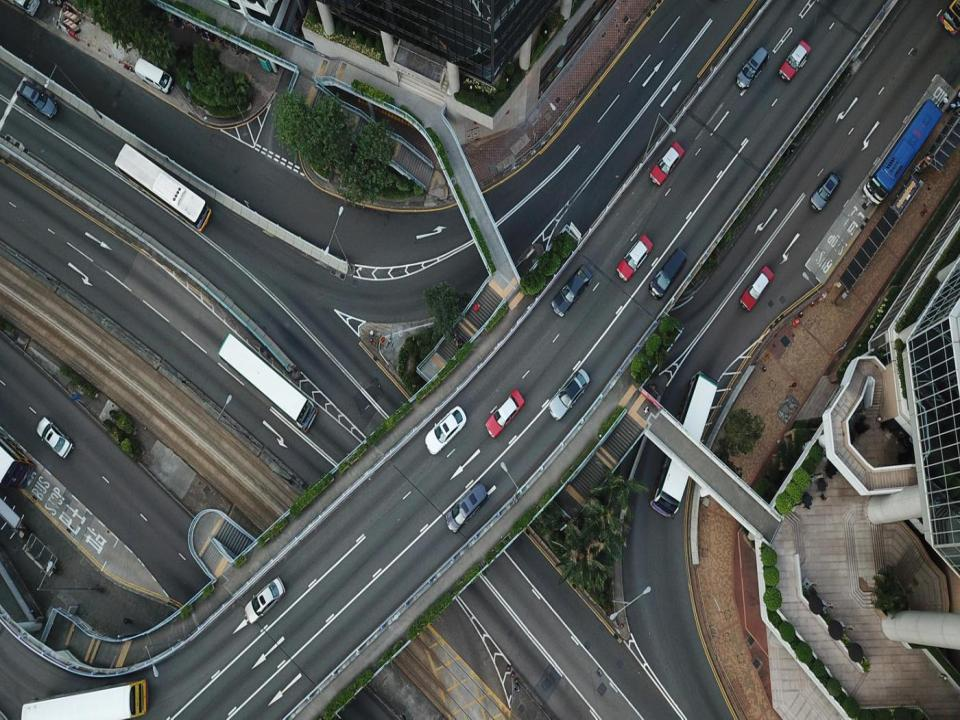bus: (651, 369, 721, 519), (220, 330, 324, 428), (861, 100, 942, 206), (116, 143, 209, 233), (22, 680, 150, 719), (2, 433, 33, 493)
car: (482, 385, 530, 436), (550, 367, 592, 422), (422, 407, 469, 456), (243, 578, 290, 624), (444, 484, 489, 531), (737, 265, 775, 314), (644, 140, 684, 185), (777, 36, 812, 83), (618, 235, 652, 282), (34, 415, 70, 457), (808, 173, 840, 211), (61, 13, 91, 34), (65, 7, 84, 25)
van: (549, 265, 596, 319), (649, 249, 687, 300), (19, 80, 59, 122), (735, 44, 771, 90), (136, 58, 173, 99)
